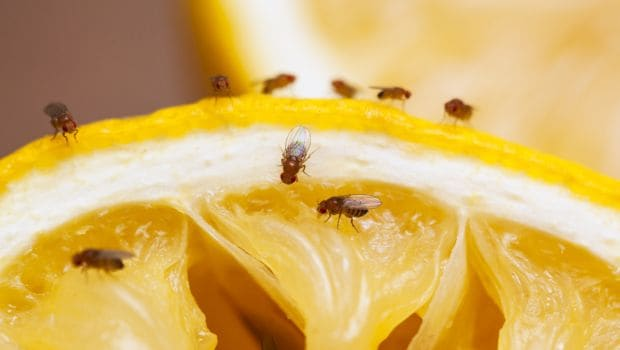Fruit fly: (315, 182, 391, 236), (36, 93, 98, 157), (273, 120, 315, 193)
